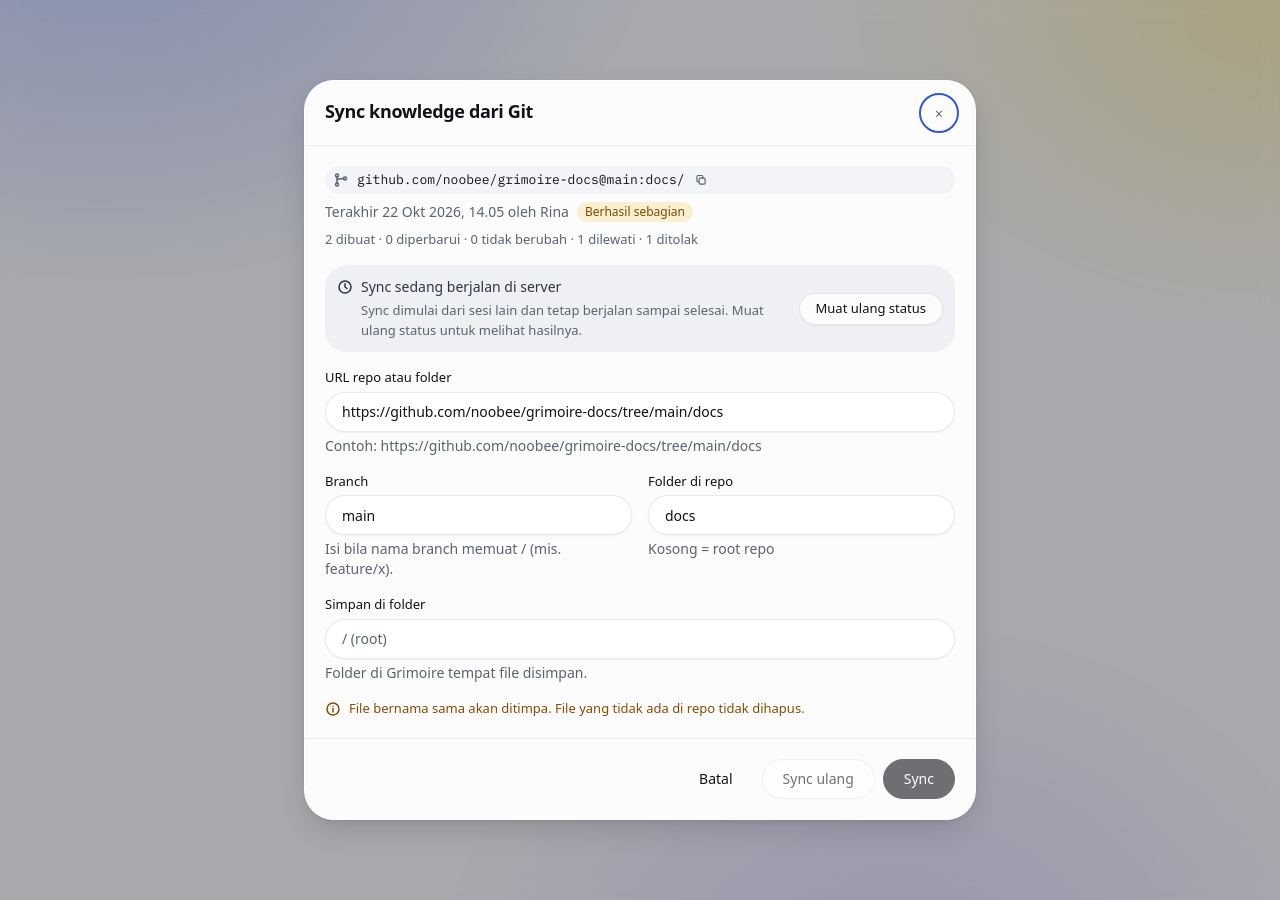
GitSyncDialog › reload with last_status failed does not announce
The image size is (1280, 900).
Expected: the message with test id "sync-in-progress" is shown, [325, 265, 955, 352]
Click the button "Muat ulang status" at (871, 308), box [798, 292, 943, 324]
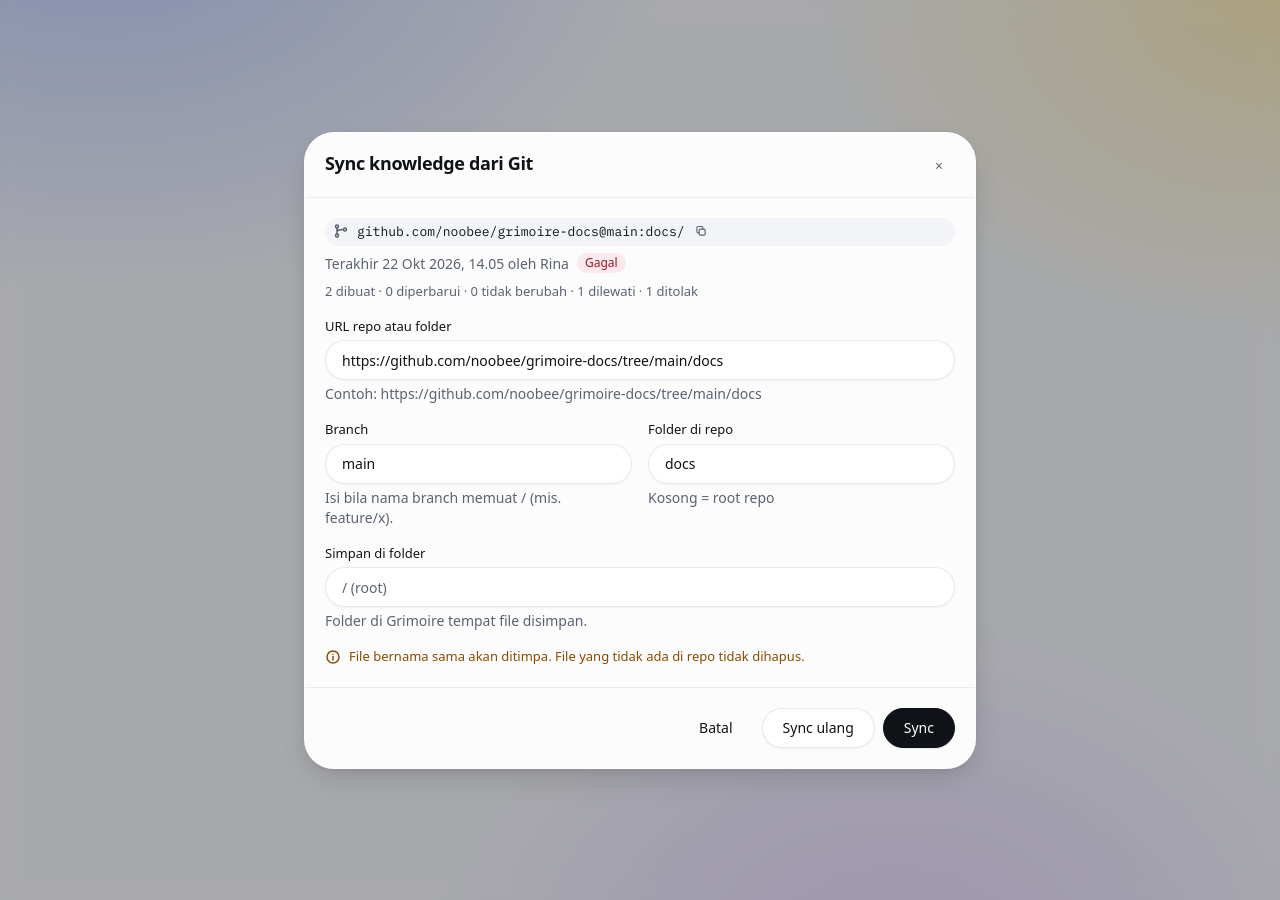
Expected: the message with test id "sync-in-progress" is gone
